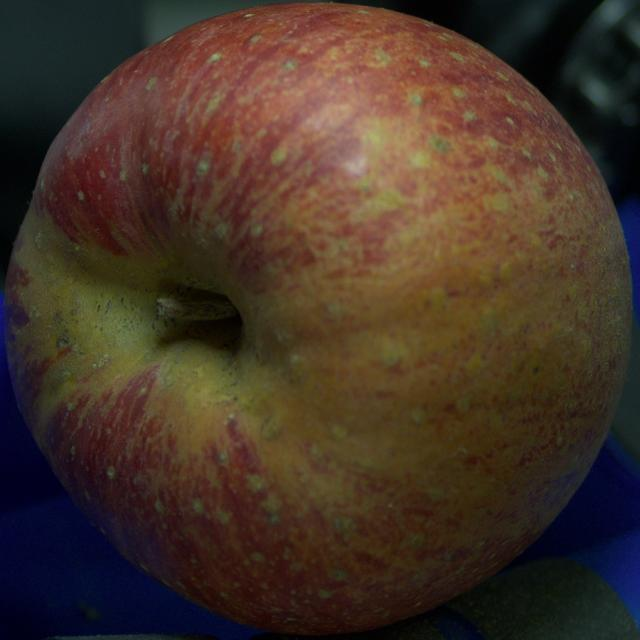apple: (4, 4, 632, 633)
